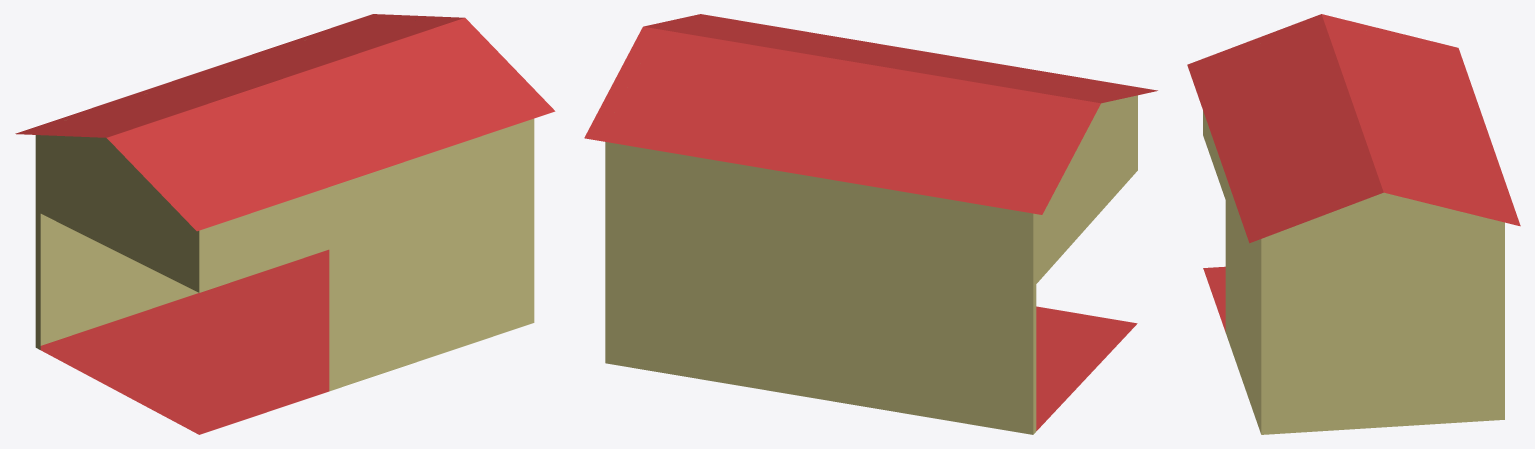
The picture shows the model from 3 angles, left to right: view 1: azimuth 30°, elevation 25°; view 2: azimuth 150°, elevation 25°; view 3: azimuth 270°, elevation 25°; orthographic projection. The views are drawn at different scales.
Bounding box in the file's own units: 16.4 × 11.83 × 9.42.
